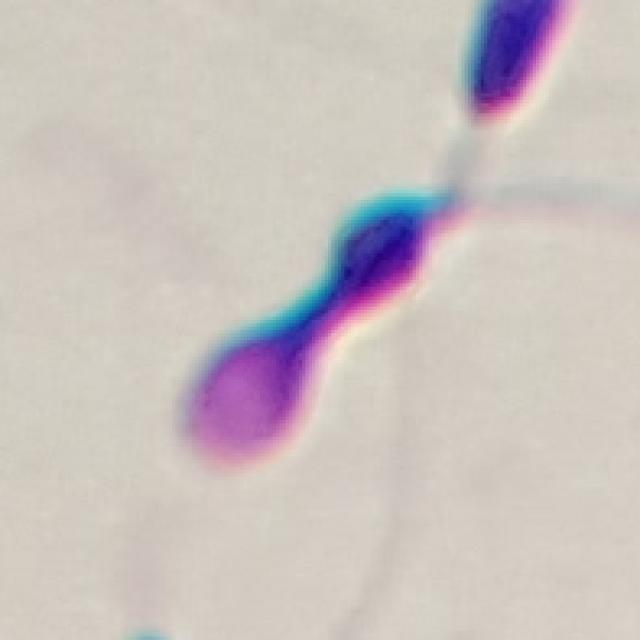abnormal sperm: (131, 139, 598, 515)
